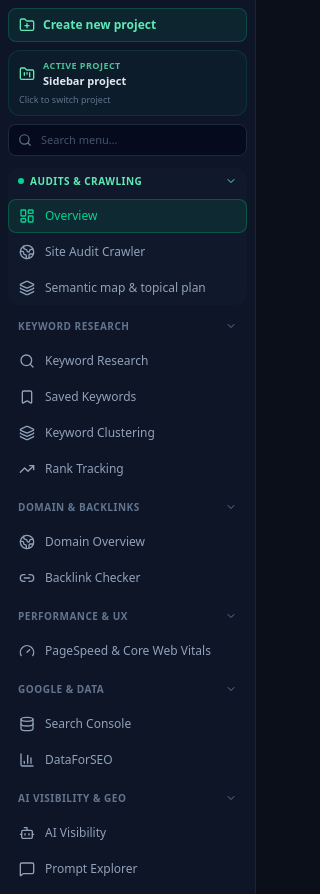
Test case: workspace sidebar information architecture › also searches the workflow vocabulary, not only visible labels
This screenshot has width=320, height=894.
Type "SERP" into the field labelled "Search menu…" at {"x": 128, "y": 140}, box [8,124,247,156]
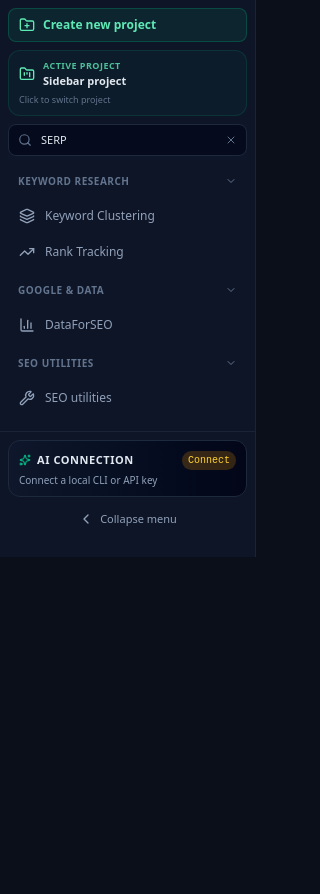
Expected: the button "Keyword Clustering" is shown, [8,198,247,232]
Expected: the button "Domain Overview" is gone
